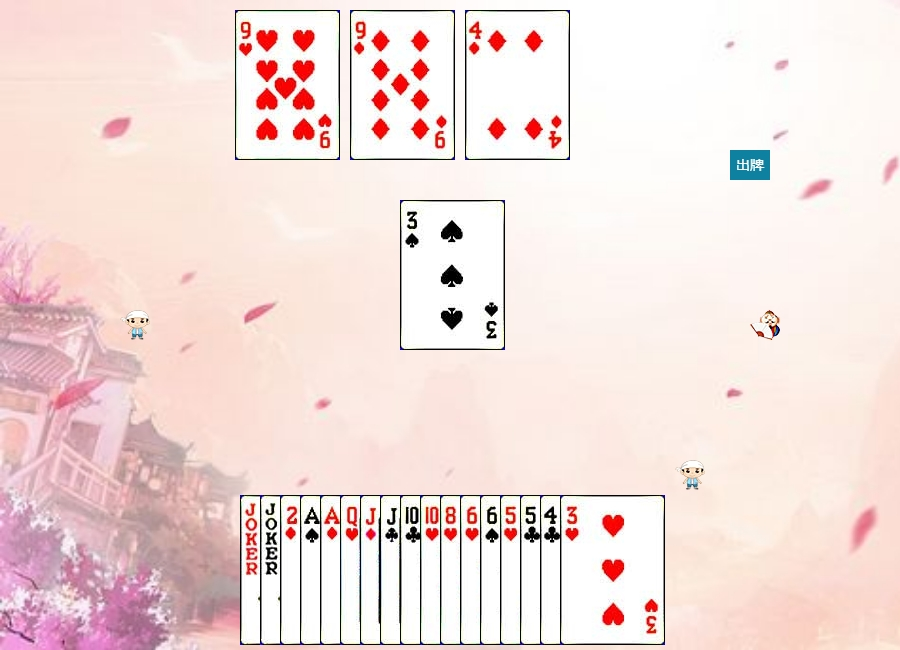10~2: (400, 495, 505, 645)
10~3: (420, 495, 525, 645)
11~1: (360, 495, 465, 645)
11~2: (380, 495, 485, 645)
12~3: (340, 495, 445, 645)
14~1: (320, 495, 425, 645)
14~4: (300, 495, 405, 645)
15~1: (280, 495, 385, 645)
17~3: (260, 495, 365, 645)
18~4: (240, 495, 345, 645)
3~3: (560, 495, 665, 645)
3~4: (400, 200, 505, 350)
4~1: (465, 10, 570, 160)
4~2: (540, 495, 645, 645)
5~2: (520, 495, 625, 645)
5~3: (500, 495, 605, 645)
6~3: (460, 495, 565, 645)
6~4: (480, 495, 585, 645)
8~3: (440, 495, 545, 645)
9~1: (350, 10, 455, 160)
9~3: (235, 10, 340, 160)
